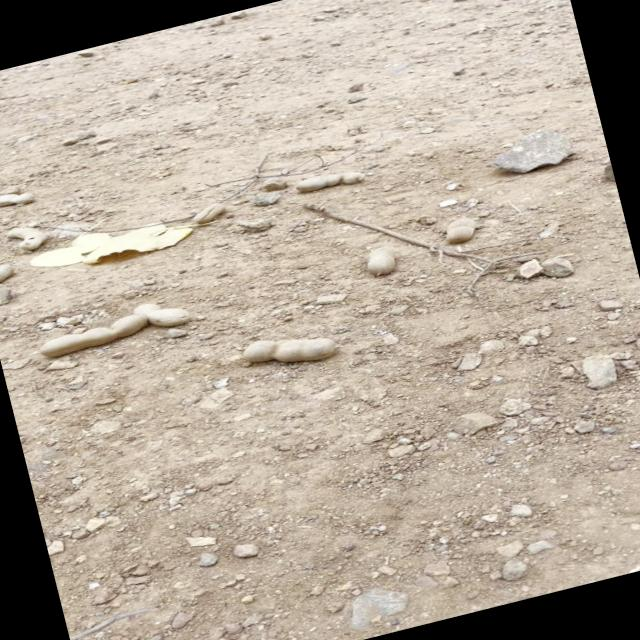tamarind: (29, 312, 144, 362), (238, 322, 339, 377), (131, 290, 194, 334), (291, 162, 366, 198), (1, 220, 44, 253), (442, 209, 478, 245), (364, 242, 397, 278), (0, 181, 37, 212), (194, 200, 223, 227), (0, 261, 16, 285)
